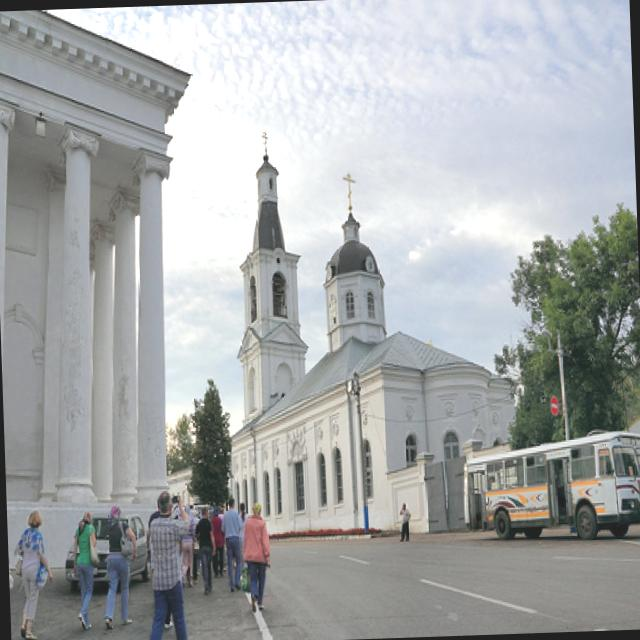Vehicle: (460, 430, 640, 544), (63, 508, 150, 592)
